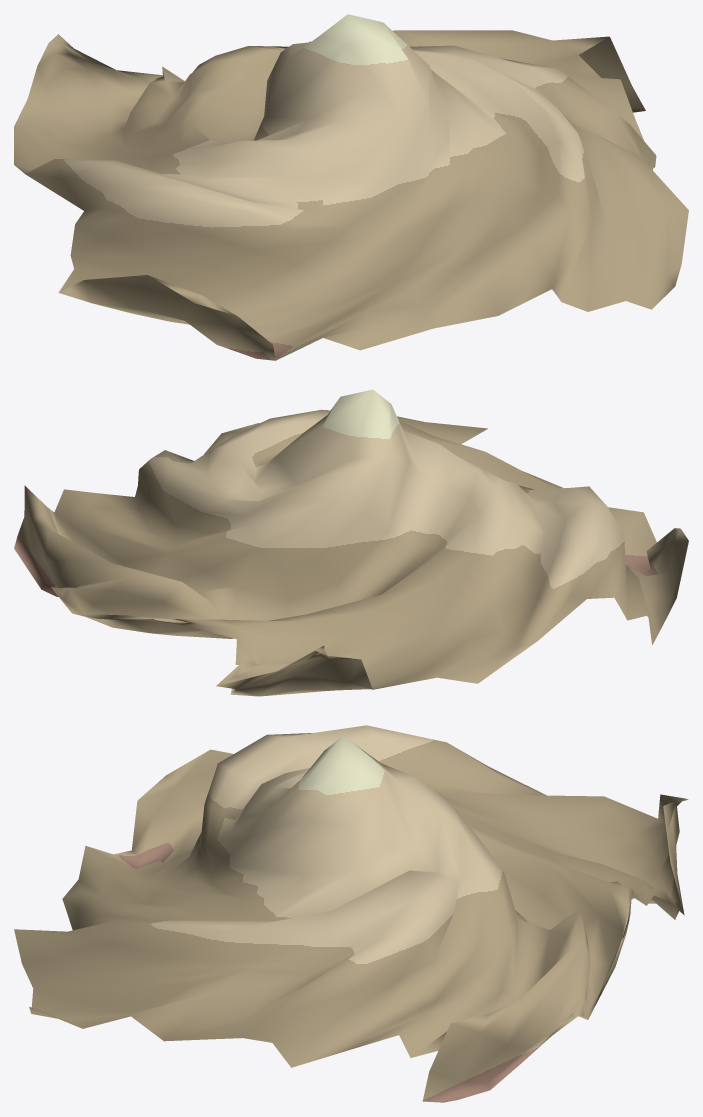
Rendered from pañuelo.001.fbx.
3 views of the same model, one above another, from view 1: azimuth 30°, elevation 25°; view 2: azimuth 150°, elevation 25°; view 3: azimuth 270°, elevation 25° (orthographic). The views are drawn at different scales.
Parts seen in each view (by area): view 1: pañuelo.001; view 2: pañuelo.001; view 3: pañuelo.001.
Boxes of the visible parts, left/top/right/bottom form: pañuelo.001: left=14, top=14, right=688, bottom=360; pañuelo.001: left=14, top=389, right=688, bottom=696; pañuelo.001: left=14, top=725, right=688, bottom=1102.
Bounding box in the file's own units: 226 × 77.49 × 214.
